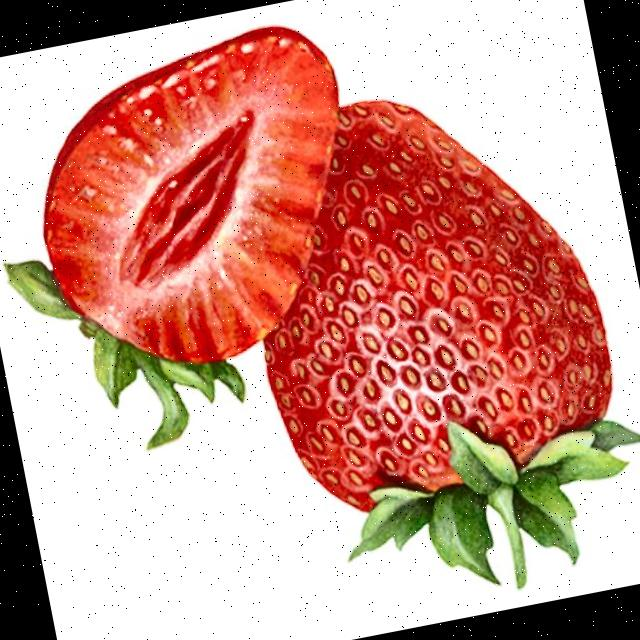strawberry: (264, 102, 636, 585), (5, 27, 337, 448)
